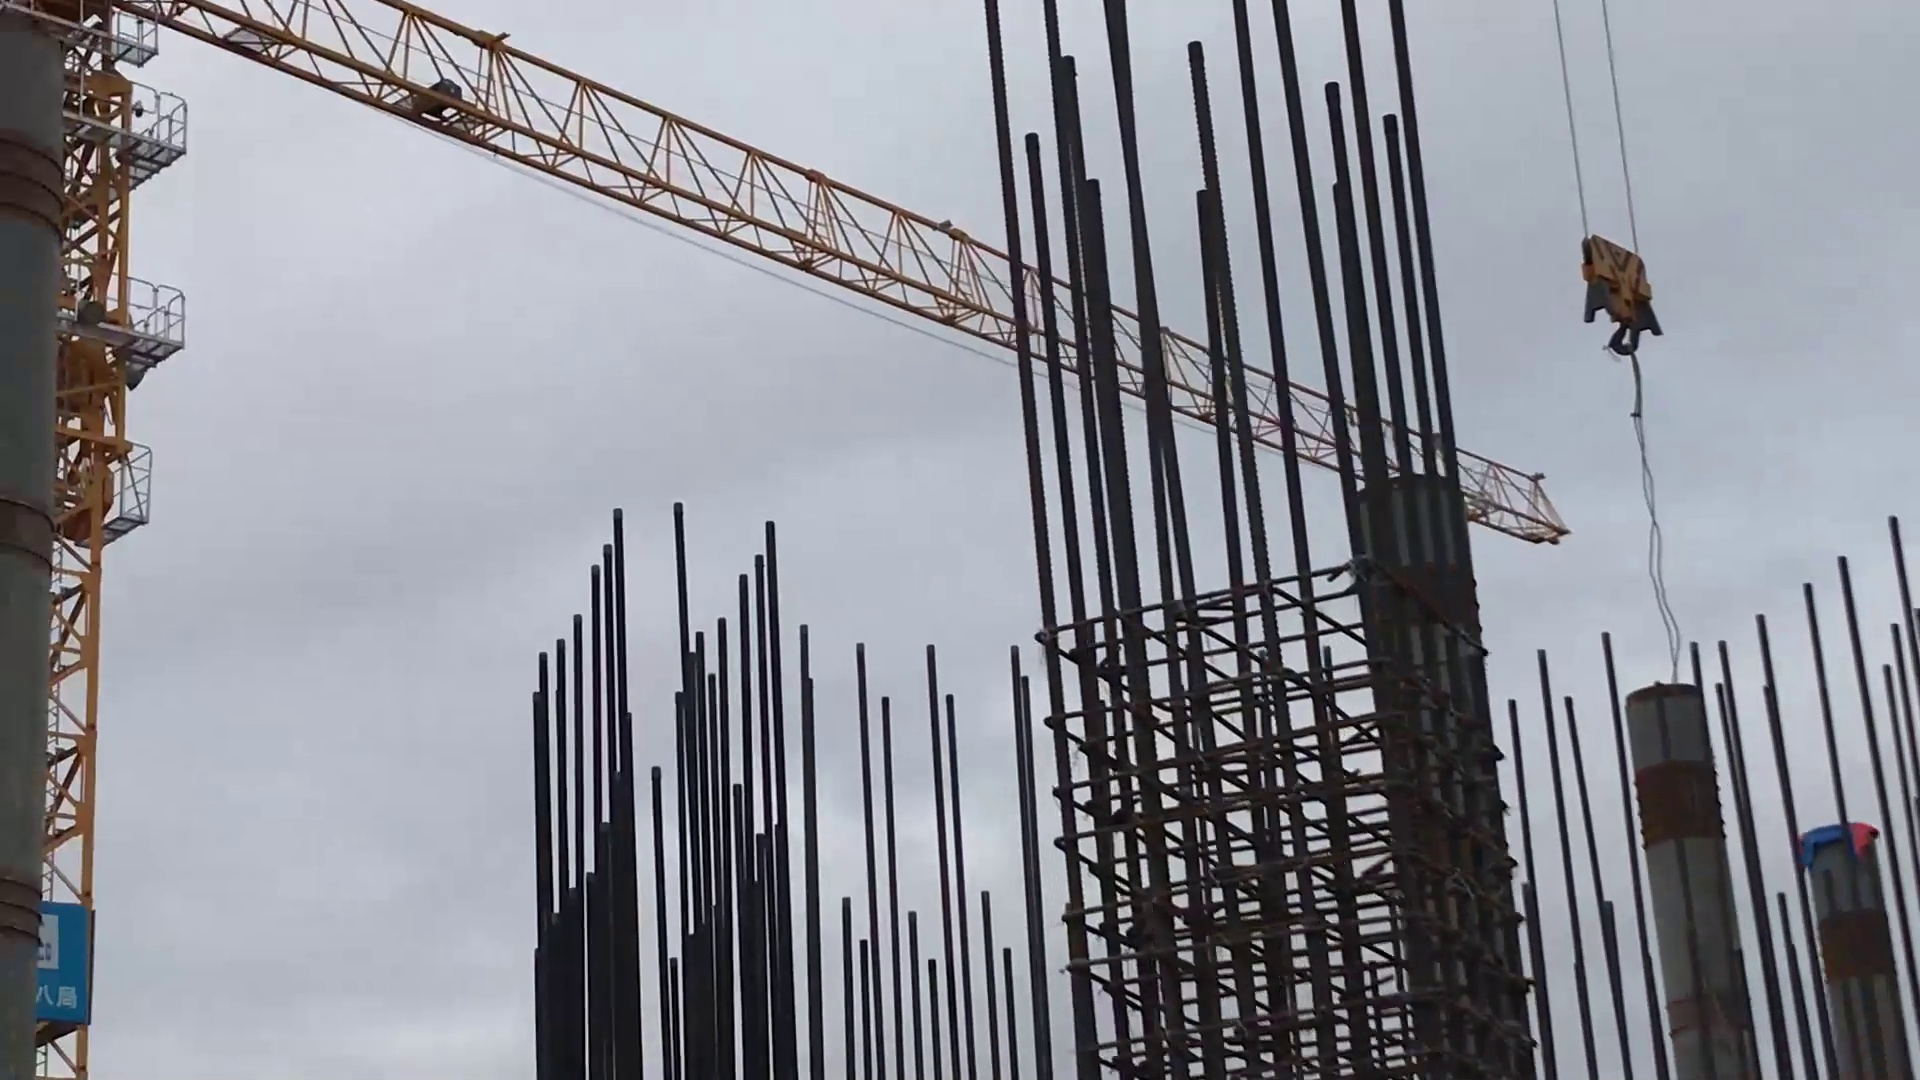hook: (1551, 196, 1683, 376)
